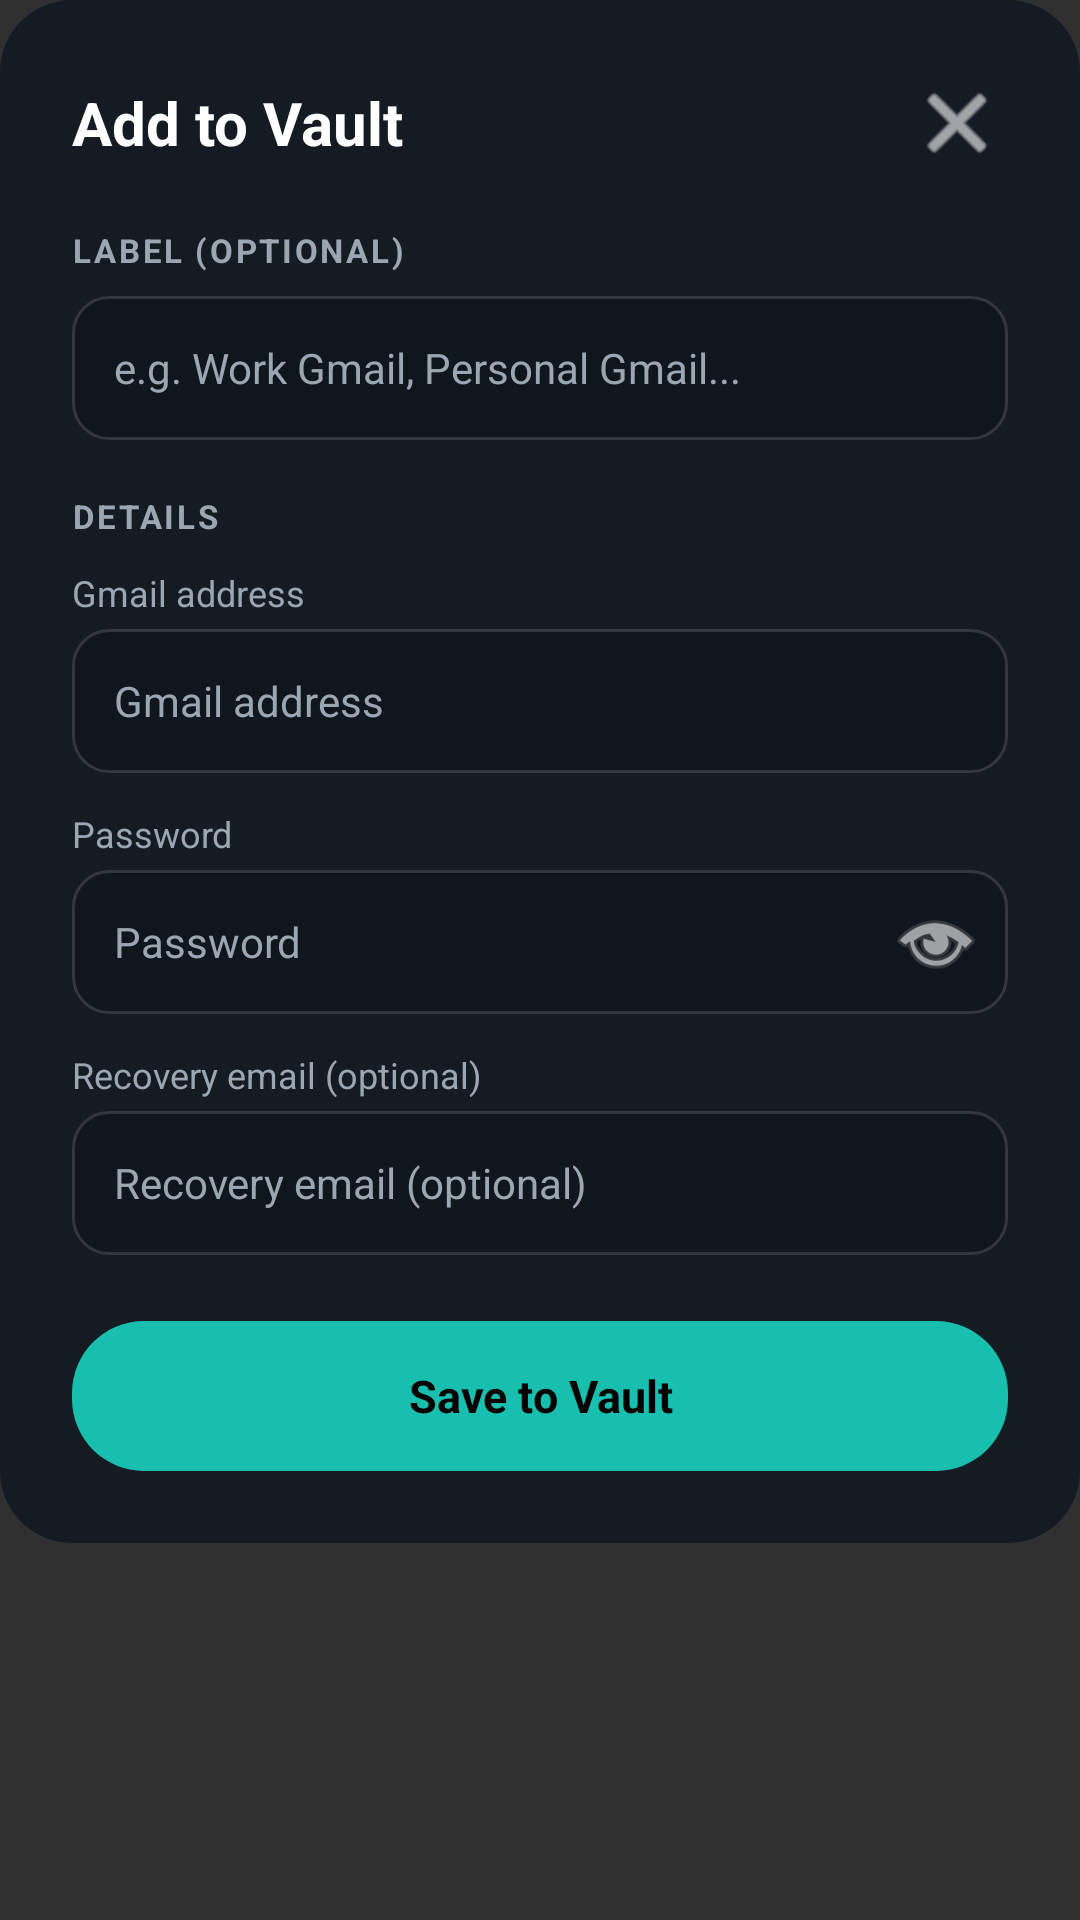

Icon bounding boxes for this 1080px x 1920px phone screenshot, format (x1, y1, x2, y2):
Close: (927, 93, 987, 153)
